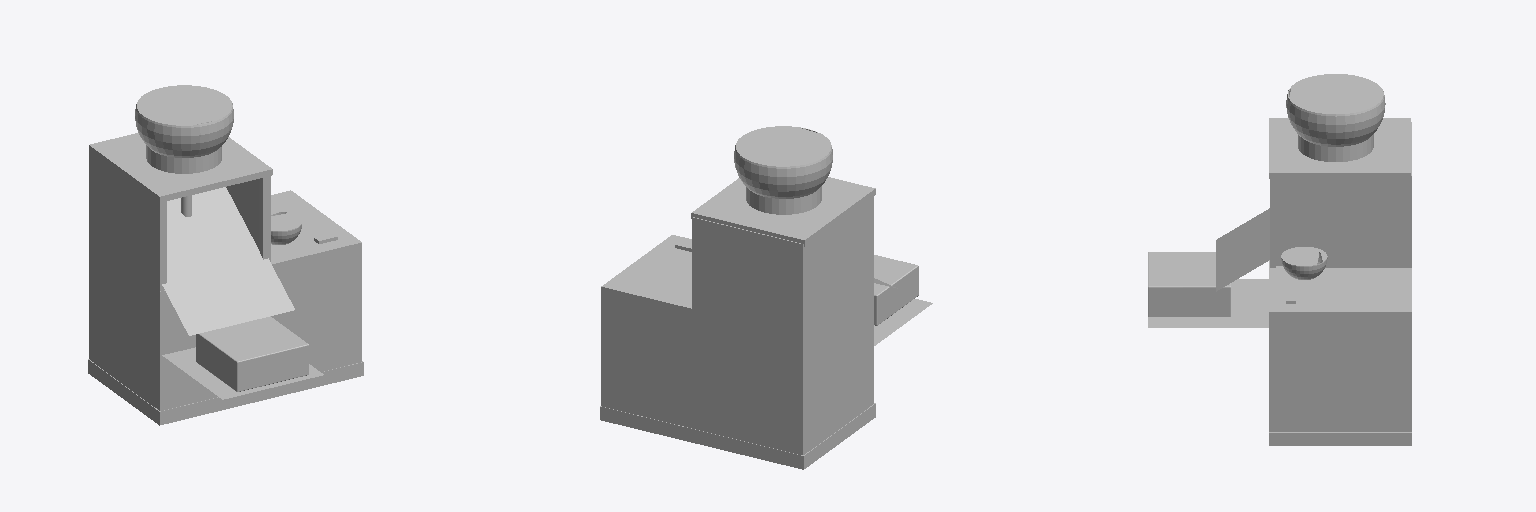
Rendered from Prototype.obj.
3 views of the same model, side by side, from view 1: azimuth 30°, elevation 25°; view 2: azimuth 150°, elevation 25°; view 3: azimuth 270°, elevation 25° (orthographic).
Visible parts, largest first — view 1: Plane.006, Plane, Plane.010, Cube.007, Sphere, Cube.003, Cube, Cube.001, Cube.002, Plane.002, Plane.001, Plane.011 (+2 smaller); view 2: Plane.008, Plane.006, Plane.009, Sphere, Cube.003, Cube, Cube.002, Cube.001, Plane.002, Cube.007, Cylinder.008, Plane.001; view 3: Plane.005, Cube.001, Sphere, Cube.003, Cube, Cube.007, Plane.002, Plane, Plane.001, Cube.002, Sphere.001, Cylinder.008.
Boxes of the visible parts, x1=… form: Plane.006: x1=94, y1=160, x2=154, y2=406; Plane: x1=162, y1=187, x2=294, y2=335; Plane.010: x1=271, y1=255, x2=353, y2=369; Cube.007: x1=196, y1=316, x2=308, y2=391; Sphere: x1=135, y1=85, x2=233, y2=157; Cube.003: x1=89, y1=133, x2=272, y2=202; Cube: x1=89, y1=190, x2=361, y2=410; Cube.001: x1=89, y1=152, x2=270, y2=290; Cube.002: x1=88, y1=359, x2=363, y2=425; Plane.002: x1=271, y1=193, x2=353, y2=261; Plane.001: x1=162, y1=347, x2=323, y2=399; Plane.011: x1=172, y1=305, x2=215, y2=405; Plane.008: x1=698, y1=228, x2=794, y2=453; Plane.006: x1=809, y1=204, x2=869, y2=450; Plane.009: x1=609, y1=298, x2=698, y2=429; Sphere: x1=734, y1=126, x2=832, y2=198; Cube.003: x1=691, y1=177, x2=875, y2=246; Cube: x1=601, y1=235, x2=873, y2=454; Cube.002: x1=600, y1=403, x2=875, y2=469; Cube.001: x1=692, y1=196, x2=873, y2=336; Plane.002: x1=610, y1=237, x2=691, y2=304; Cube.007: x1=874, y1=255, x2=918, y2=325; Cylinder.008: x1=746, y1=186, x2=821, y2=214; Plane.001: x1=874, y1=299, x2=932, y2=345; Plane.005: x1=1279, y1=322, x2=1399, y2=428; Cube.001: x1=1270, y1=122, x2=1411, y2=267; Sphere: x1=1286, y1=74, x2=1385, y2=146; Cube.003: x1=1269, y1=118, x2=1410, y2=178; Cube: x1=1269, y1=260, x2=1411, y2=431; Cube.007: x1=1148, y1=252, x2=1230, y2=316; Plane.002: x1=1274, y1=268, x2=1405, y2=308; Plane: x1=1216, y1=208, x2=1269, y2=291; Plane.001: x1=1148, y1=279, x2=1268, y2=327; Cube.002: x1=1269, y1=432, x2=1411, y2=445; Sphere.001: x1=1281, y1=247, x2=1327, y2=279; Cylinder.008: x1=1298, y1=134, x2=1373, y2=161.
Bounding box in the file's own units: 3.4 × 4.48 × 3.82.